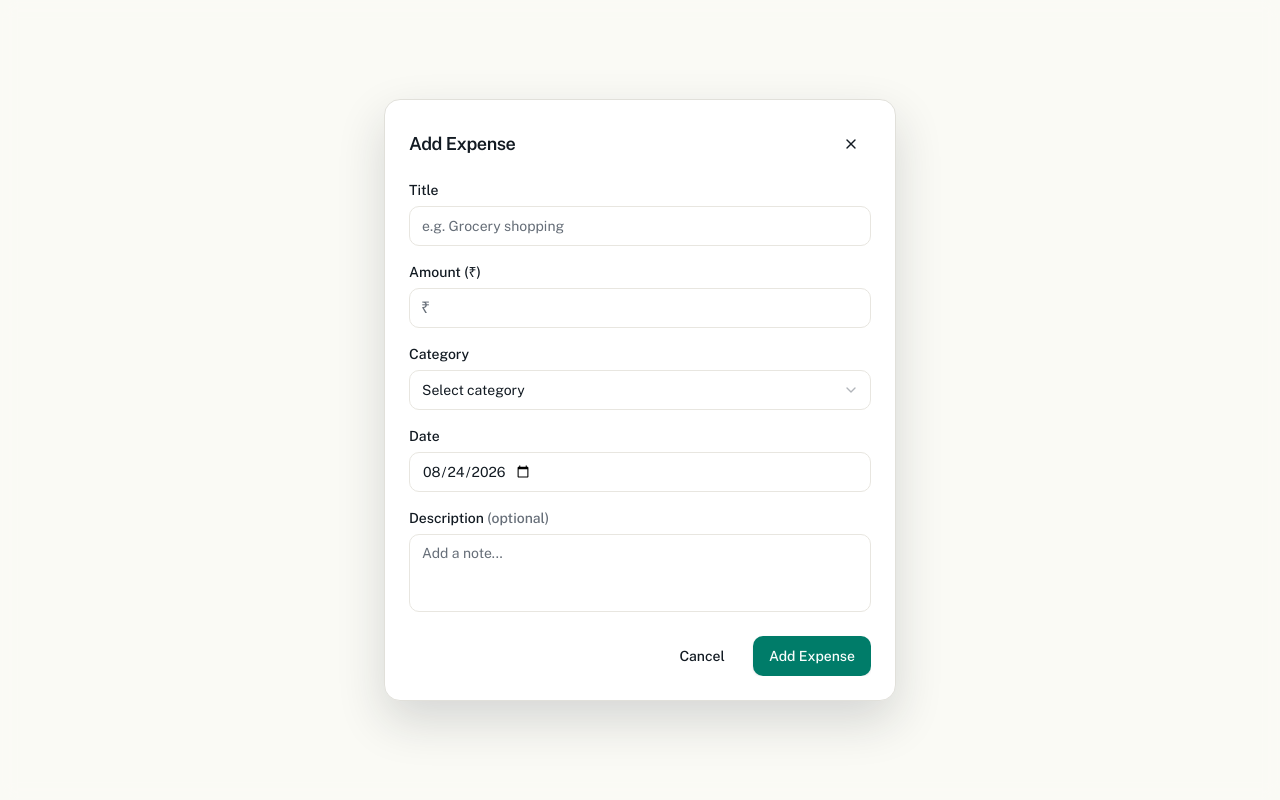
ExpenseForm › validates fields and shows error messages on empty submit
Click the button "Add Expense".
click(812, 656)  # box left=753, top=636, right=871, bottom=676
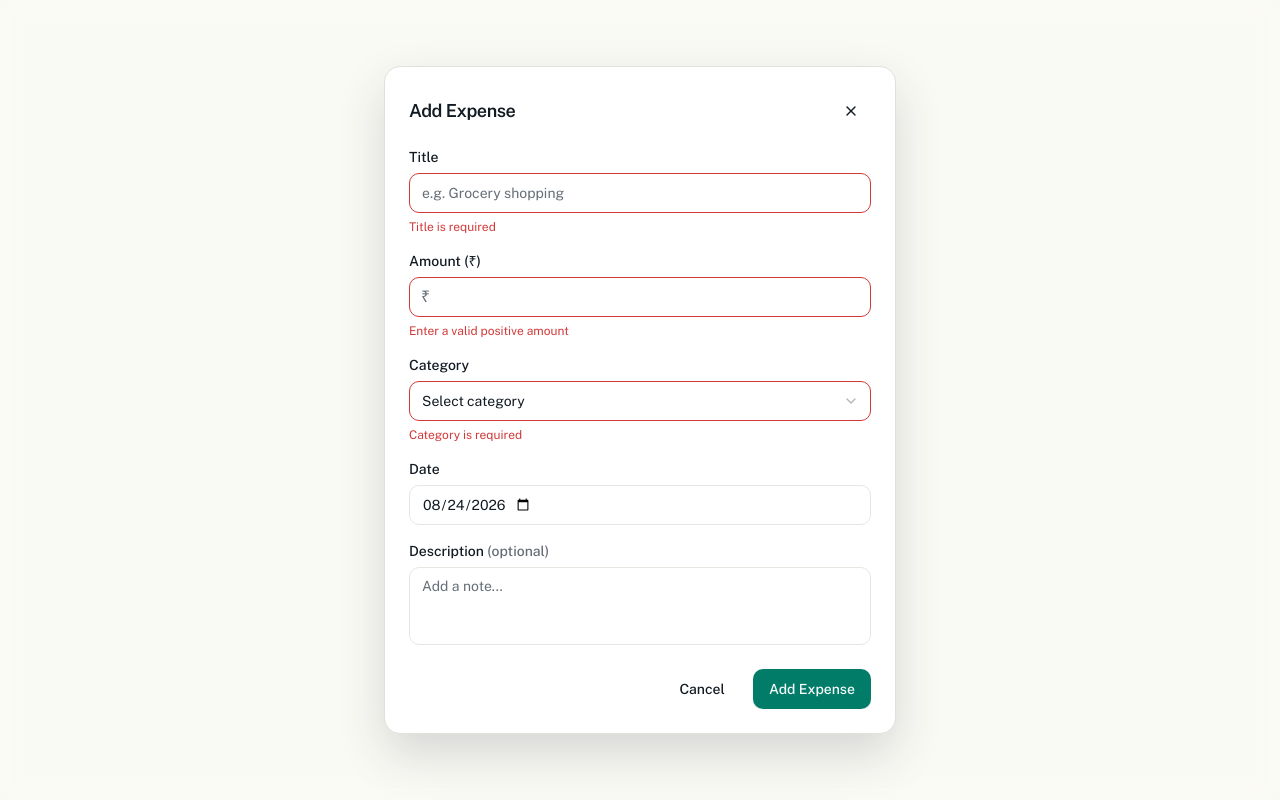
Result: the text "Title is required" is shown at left=409, top=220, right=496, bottom=234
Result: the text "Enter a valid positive amount" is shown at left=409, top=324, right=569, bottom=338
Result: the text "Category is required" is shown at left=409, top=428, right=522, bottom=442
